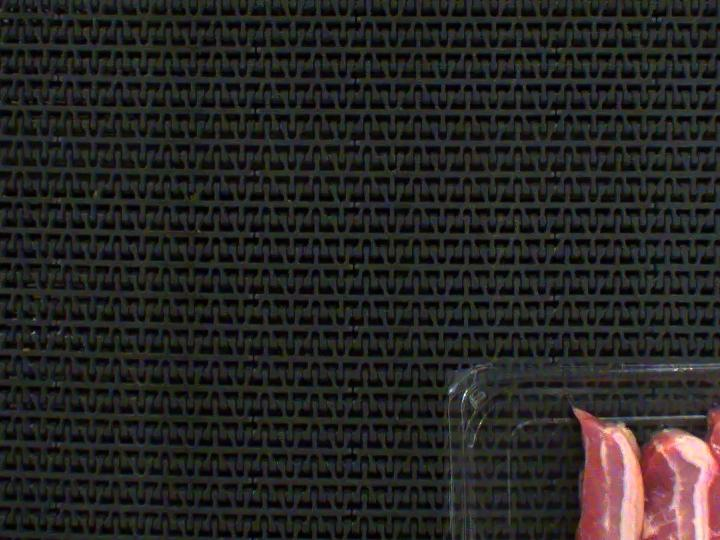packaging-error: (702, 388, 720, 414)
